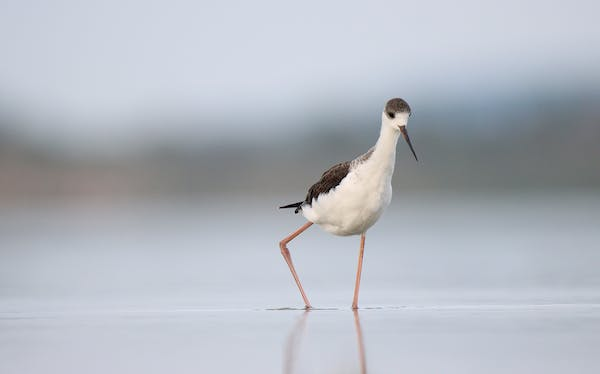Walking: (259, 73, 439, 336)
